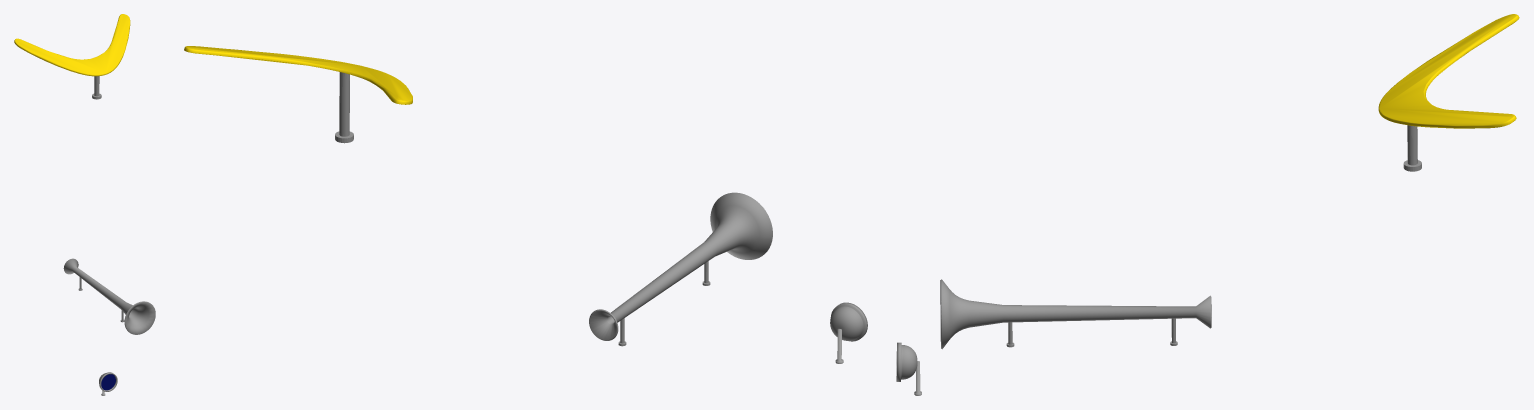
Rendered from Set 1.fbx.
The picture shows the model from 3 angles, left to right: view 1: azimuth 30°, elevation 25°; view 2: azimuth 150°, elevation 25°; view 3: azimuth 270°, elevation 25°; orthographic projection. The views are drawn at different scales.
Parts seen in each view (by area): view 1: Boomerang, Horn 5, Left Light; view 2: Horn 5, Boomerang, Left Light; view 3: Boomerang, Horn 5, Left Light.
Boxes of the visible parts, bbox=[...] form: Boomerang: bbox=[14, 14, 130, 99]; Horn 5: bbox=[63, 258, 155, 334]; Left Light: bbox=[99, 372, 117, 395]; Horn 5: bbox=[589, 192, 772, 346]; Boomerang: bbox=[184, 46, 412, 143]; Left Light: bbox=[830, 302, 867, 363]; Boomerang: bbox=[1378, 14, 1519, 171]; Horn 5: bbox=[940, 279, 1211, 349]; Left Light: bbox=[896, 342, 921, 395].
Bounding box in the file's own units: 153 × 180 × 230.
